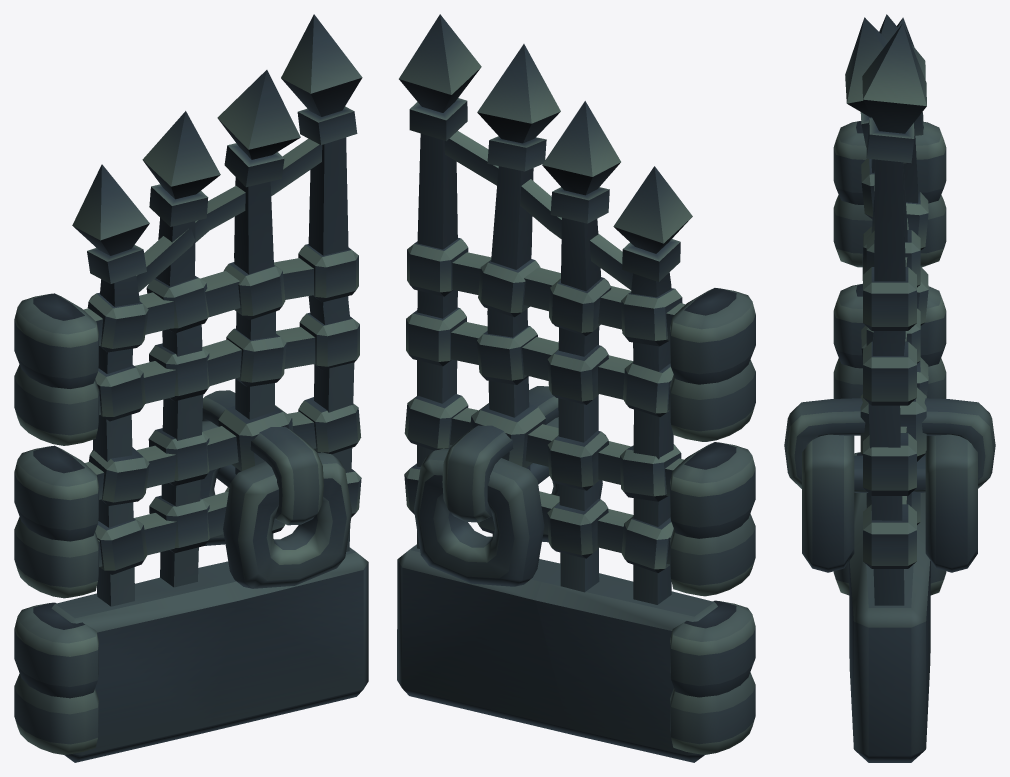
Rendered from door_large_left_gate.fbx.
3 renders of one model, left to right at view 1: azimuth 30°, elevation 25°; view 2: azimuth 150°, elevation 25°; view 3: azimuth 270°, elevation 25°, orthographic. The views are drawn at different scales.
Parts seen in each view (by area): view 1: door_large_left_gate, door_large__left_handle; view 2: door_large_left_gate, door_large__left_handle; view 3: door_large_left_gate, door_large__left_handle.
Boxes of the visible parts, x1,y1,x2,y2 form: door_large_left_gate: [14, 14, 368, 762]; door_large__left_handle: [200, 390, 351, 588]; door_large_left_gate: [397, 14, 755, 762]; door_large__left_handle: [414, 386, 602, 586]; door_large_left_gate: [833, 14, 946, 762]; door_large__left_handle: [784, 398, 995, 572].
Size of the model in its own units: 167 by 324 by 85.54.
